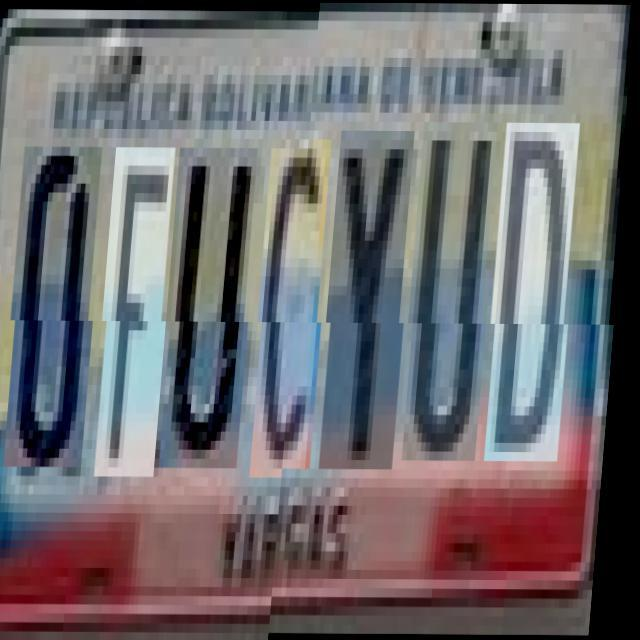0: (11, 147, 110, 467)
C: (257, 148, 338, 478)
D: (491, 130, 586, 470)
F: (102, 148, 183, 476)
U: (409, 130, 504, 470), (167, 148, 265, 468)
Y: (326, 140, 421, 478)
